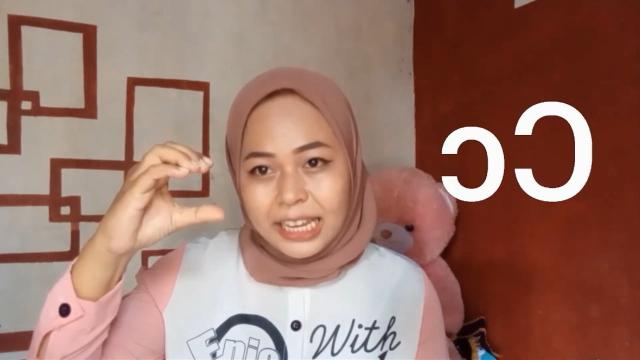C: (102, 140, 225, 256)
